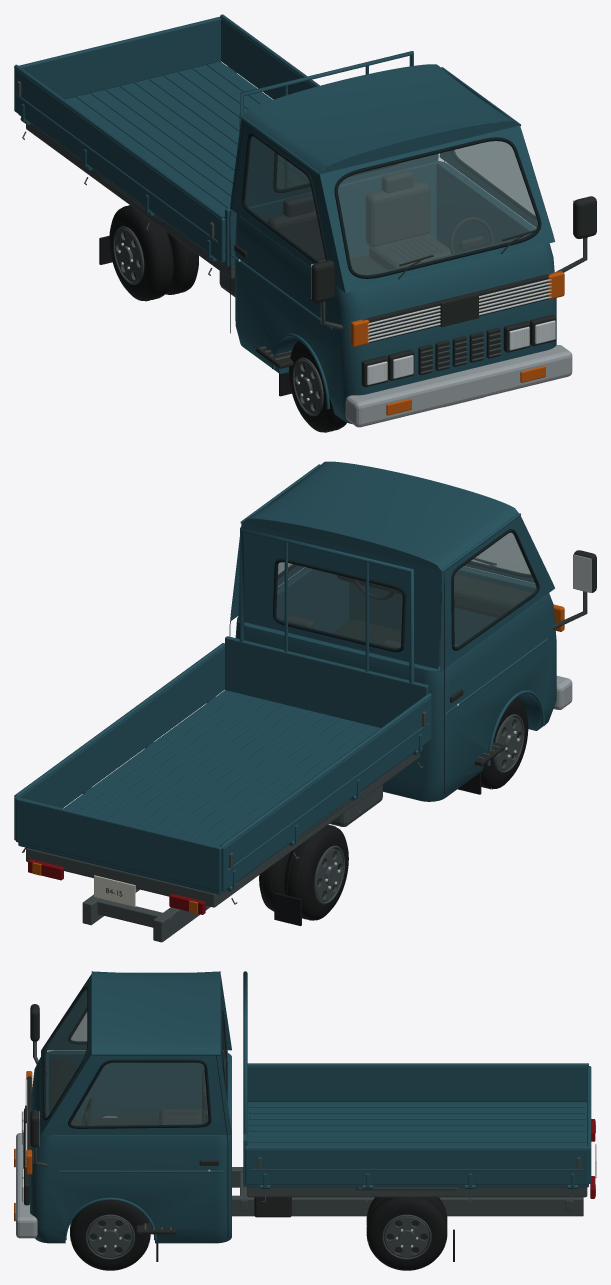
File: light-truck.glb
3 renders of one model, top to bottom at view 1: azimuth 30°, elevation 25°; view 2: azimuth 150°, elevation 25°; view 3: azimuth 270°, elevation 25°, orthographic. The views are drawn at different scales.
Visible parts, largest first — view 1: cab pressed lower shell, windshield glass, black pull handle, seat cushion, steel front bumper, commercial tire, anti slip step bar, windshield rubber surround, door lock, square halogen, rear indicator, floor; view 2: cab pressed lower shell, windshield glass, anti slip step bar, commercial tire, floor, windshield rubber surround, black pull handle, registration plate, rear stop lamp, door lock; view 3: cab pressed lower shell, anti slip step bar, windshield glass, commercial tire, black pull handle, windshield rubber surround, floor, steel front bumper, seat cushion.
Part boxes in pixels (x1,y1,x2,y2): cab pressed lower shell: [14, 14, 556, 423]; windshield glass: [244, 136, 537, 275]; black pull handle: [122, 196, 596, 432]; seat cushion: [267, 170, 450, 280]; steel front bumper: [345, 345, 572, 427]; commercial tire: [99, 205, 346, 432]; anti slip step bar: [16, 81, 587, 416]; windshield rubber surround: [229, 121, 541, 333]; door lock: [118, 200, 575, 400]; square halogen: [367, 320, 555, 384]; rear indicator: [350, 271, 564, 415]; floor: [338, 237, 522, 283]; cab pressed lower shell: [14, 461, 556, 894]; windshield glass: [276, 532, 536, 648]; anti slip step bar: [22, 591, 587, 942]; commercial tire: [259, 697, 528, 925]; floor: [333, 574, 532, 665]; windshield rubber surround: [229, 529, 539, 793]; black pull handle: [262, 550, 596, 920]; registration plate: [94, 875, 135, 906]; rear stop lamp: [28, 859, 205, 914]; door lock: [325, 554, 591, 888]; cab pressed lower shell: [30, 971, 591, 1243]; anti slip step bar: [23, 1041, 587, 1259]; windshield glass: [45, 989, 225, 1125]; commercial tire: [70, 1197, 454, 1270]; black pull handle: [24, 1004, 447, 1253]; windshield rubber surround: [42, 986, 228, 1236]; floor: [49, 1060, 159, 1125]; steel front bumper: [16, 1133, 37, 1238]; seat cushion: [159, 1069, 208, 1124].
Bounding box in the file's own units: 2.25 × 2.1 × 4.83.
